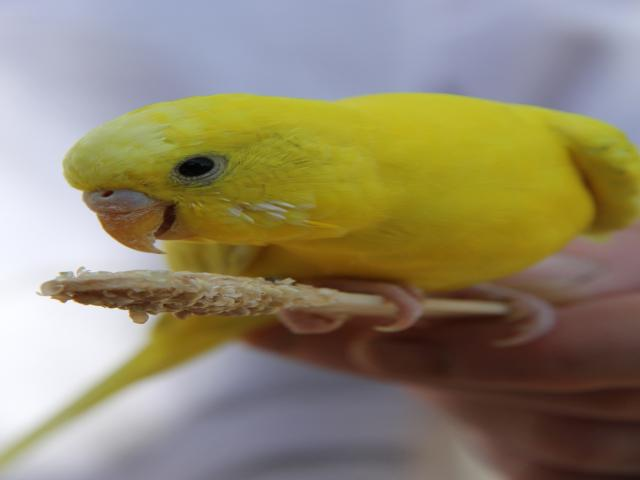Bird: (0, 92, 639, 460)
